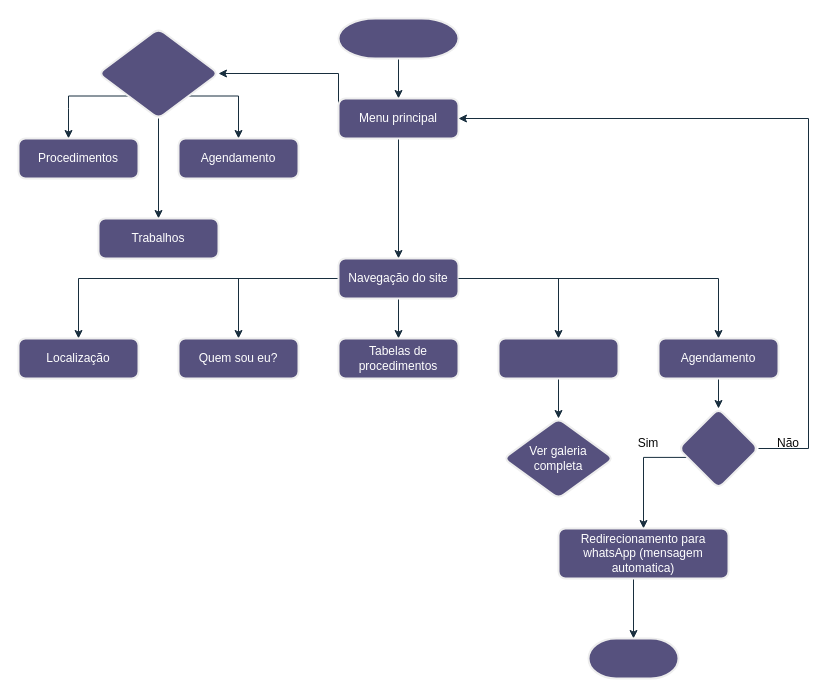
The diagram is 835 pixels wide and 696 high, and some of its shapes have lost their labels. Each missing label, with the box of its shape:
Botões: (97, 27, 219, 119)
Deseja agendar?: (677, 407, 759, 489)
Fim: (587, 637, 679, 679)
Início: (337, 17, 459, 59)
Portifólios/ vitrine: (497, 337, 619, 379)
